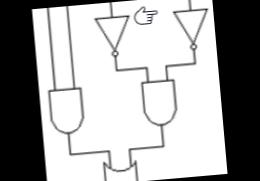and: (135, 74, 187, 132), (43, 80, 92, 140)
not: (90, 10, 136, 58), (170, 4, 213, 50)
or: (93, 157, 145, 181)
